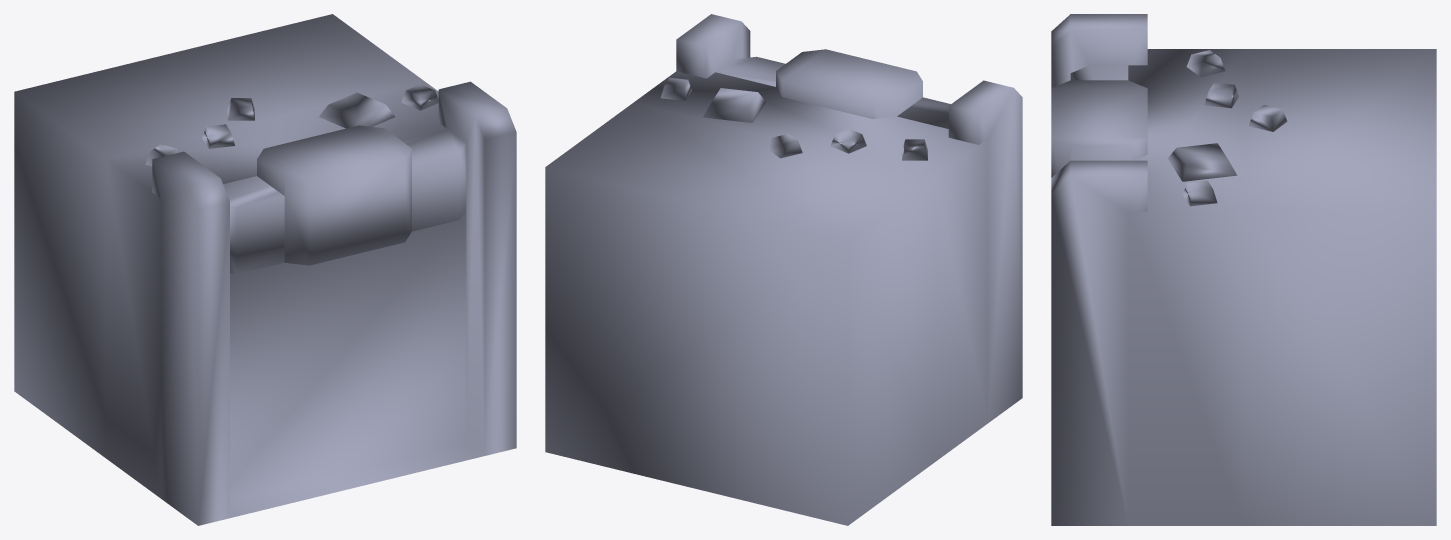
File: kenney_mini-dungeon__wall-half.fbx
3 renders of one model, left to right at view 1: azimuth 30°, elevation 25°; view 2: azimuth 150°, elevation 25°; view 3: azimuth 270°, elevation 25°, orthographic. The views are drawn at different scales.
Visible parts, largest first — view 1: kenney_mini-dungeon__wall-half__cave_stone; view 2: kenney_mini-dungeon__wall-half__cave_stone; view 3: kenney_mini-dungeon__wall-half__cave_stone.
Boxes of the visible parts, x1=… form: kenney_mini-dungeon__wall-half__cave_stone: x1=14, y1=14, x2=516, y2=525; kenney_mini-dungeon__wall-half__cave_stone: x1=545, y1=14, x2=1022, y2=525; kenney_mini-dungeon__wall-half__cave_stone: x1=1051, y1=14, x2=1436, y2=525.
Size of the model in its own units: 3.57 by 3.57 by 3.57.
